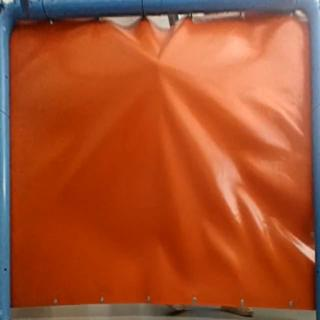Hit-hRxx: (148, 54, 166, 70)
